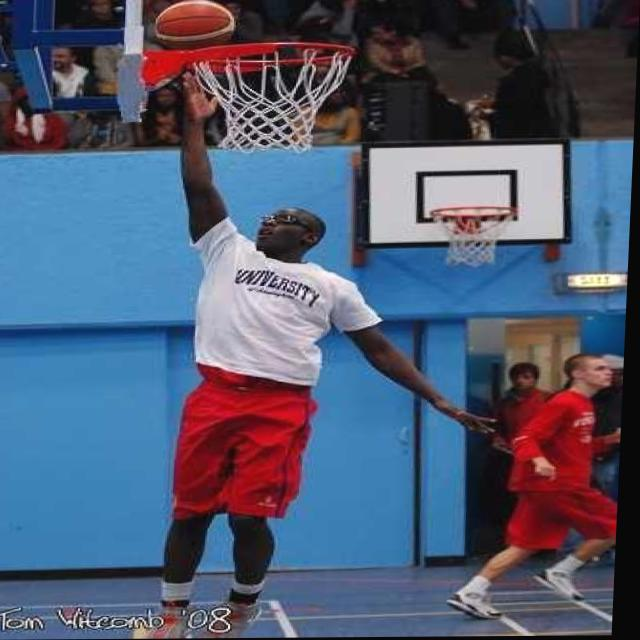basketball: (153, 0, 239, 53)
hoop: (180, 37, 359, 157), (427, 203, 520, 270)
